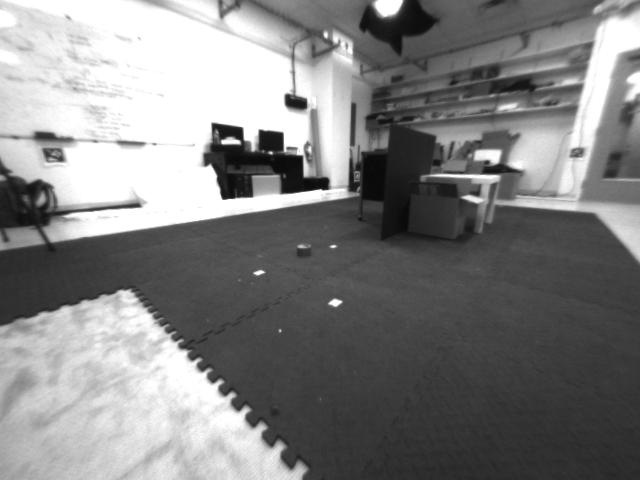dogtoy: (281, 233, 320, 272)
